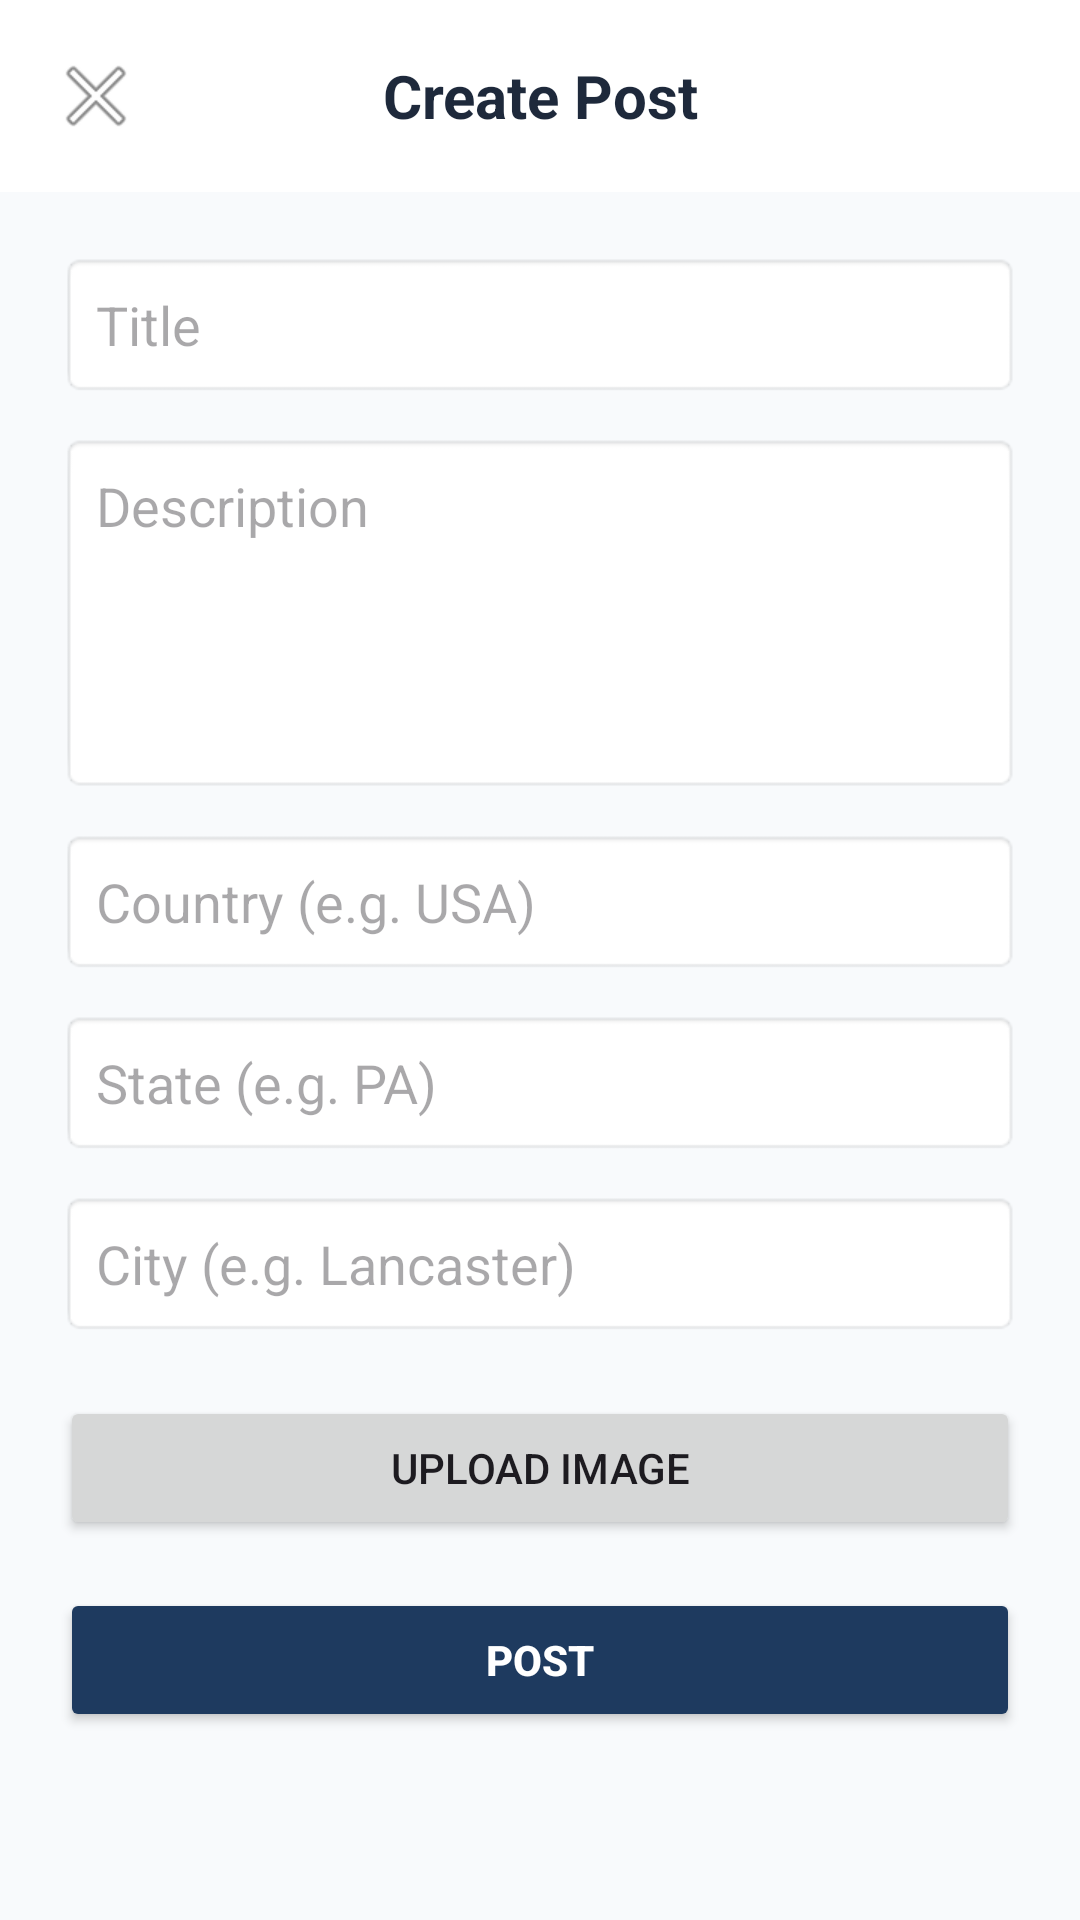

Named icons in this screenshot (1080w x 1920h) and their bounding boxes, [x1=x1, y1=y1, x2=x2, y2=y2]:
Close: [x1=66, y1=66, x2=126, y2=126]
